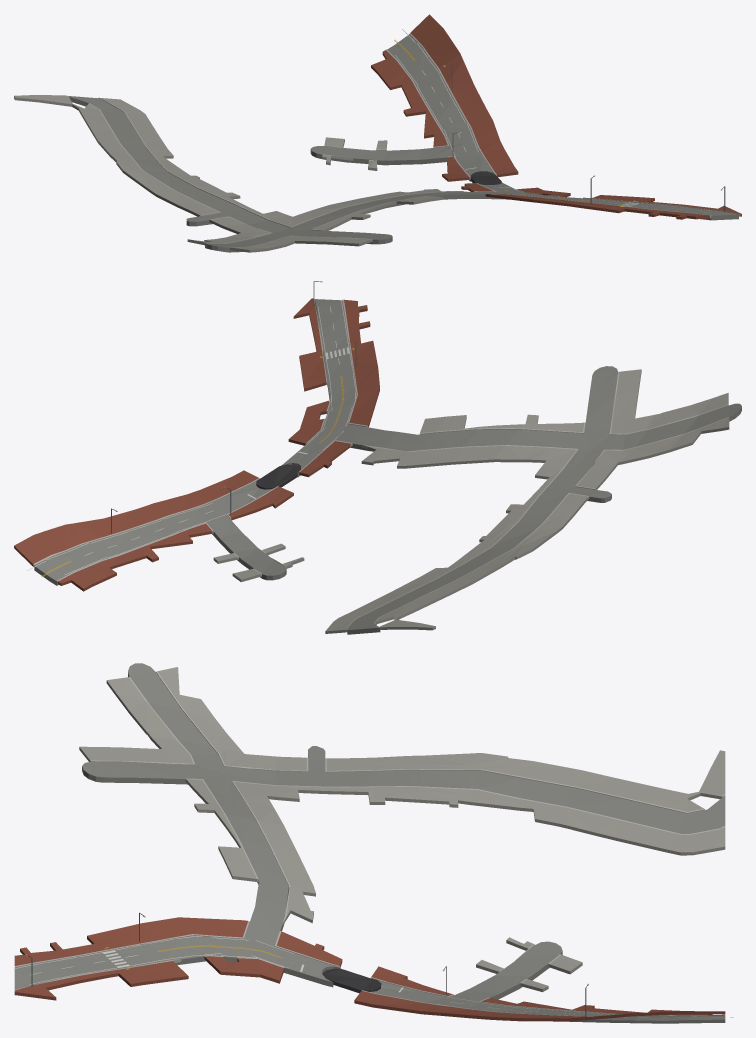
3 renders of one model, top to bottom at view 1: azimuth 30°, elevation 25°; view 2: azimuth 150°, elevation 25°; view 3: azimuth 270°, elevation 25°, orthographic. The views are drawn at different scales.
Bounding box in the file's own units: 134 × 29.92 × 149.
